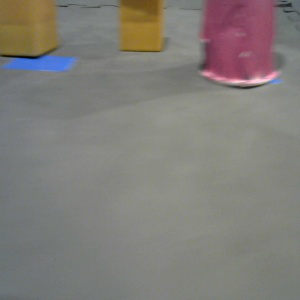right: (198, 1, 280, 86)
